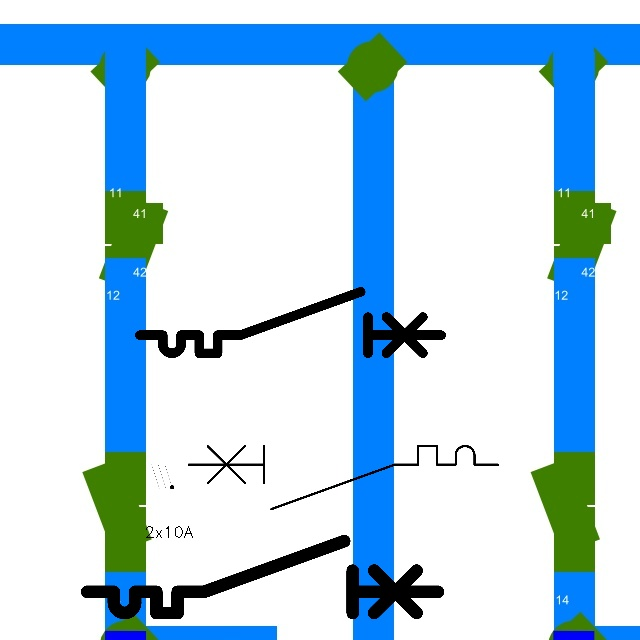interruptor_termomagnetico: (78, 532, 447, 622), (180, 438, 505, 517), (132, 284, 449, 361)
